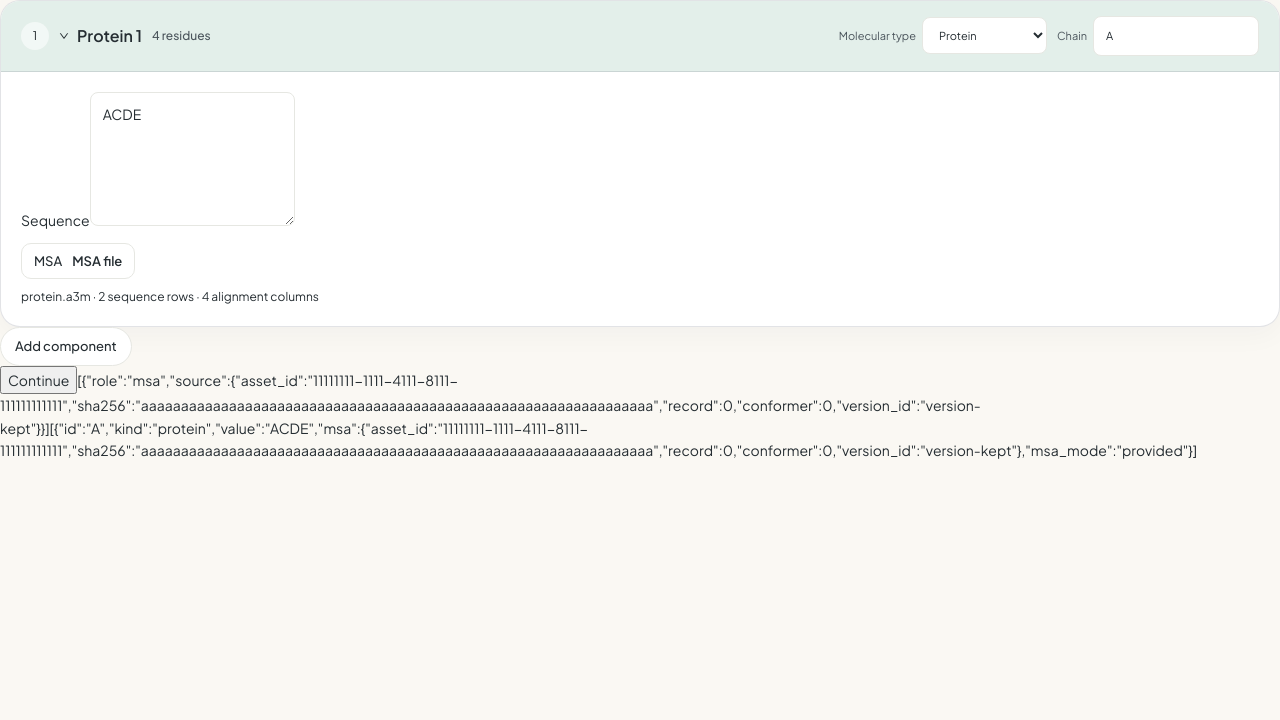
keeps a committed alignment on cancel and atomically clears it on explicit single-sequence save
This screenshot has width=1280, height=720.
Expected: the button "Continue" is enabled, [0, 366, 77, 394]
Click the button with aria-label "Chain A MSA settings": coordinates (78, 261) [21, 243, 135, 279]
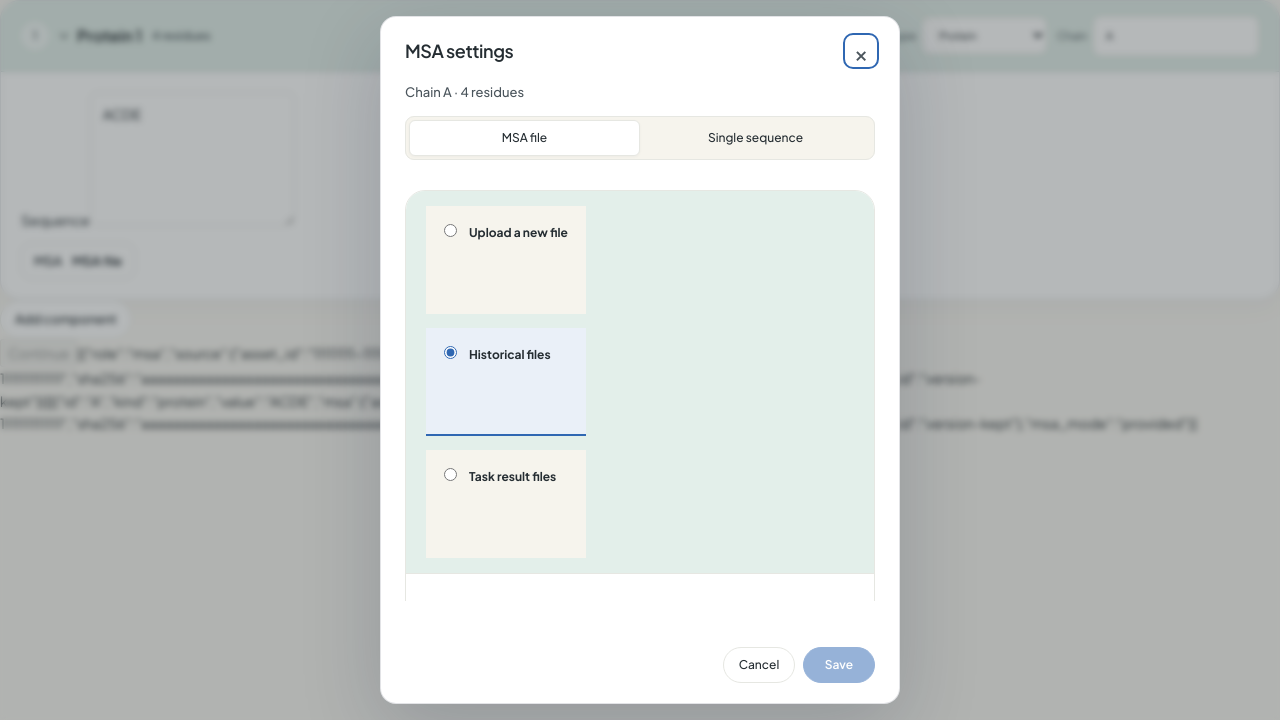
Click the radio button labelled "Single sequence": coordinates (756, 138) [708, 130, 803, 145]
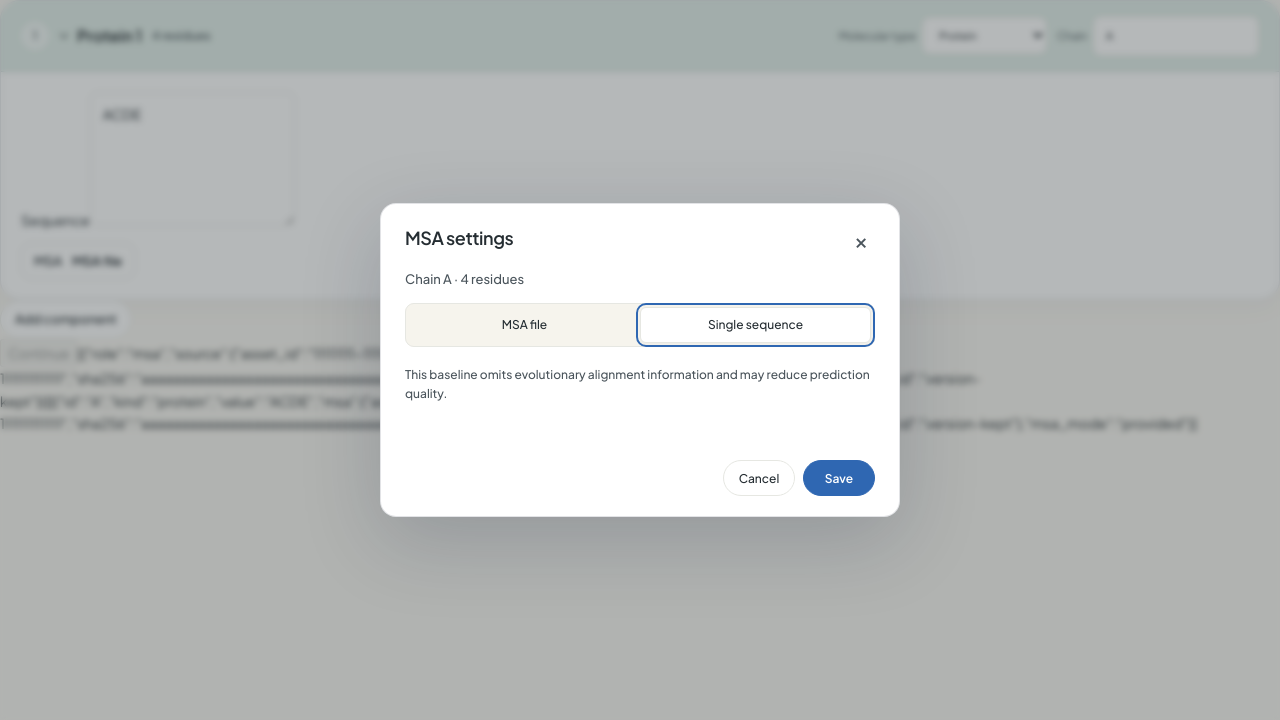
Click the button "Cancel": coordinates (759, 478) [723, 460, 795, 496]
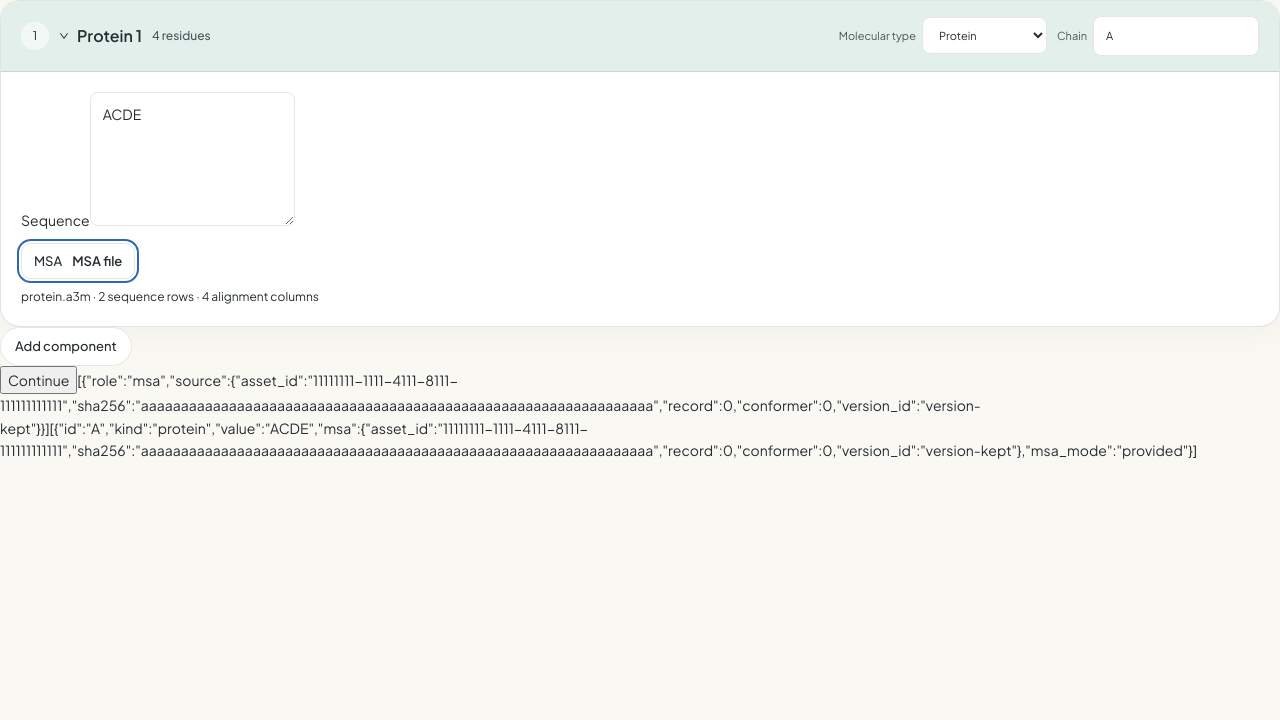
Expected: the text named "Bound inputs" shows "version-kept", [0, 371, 981, 437]
Now the button "Continue" is enabled, box [0, 366, 77, 394]
Click the button with aria-label "Chain A MSA settings": coordinates (78, 261) [21, 243, 135, 279]
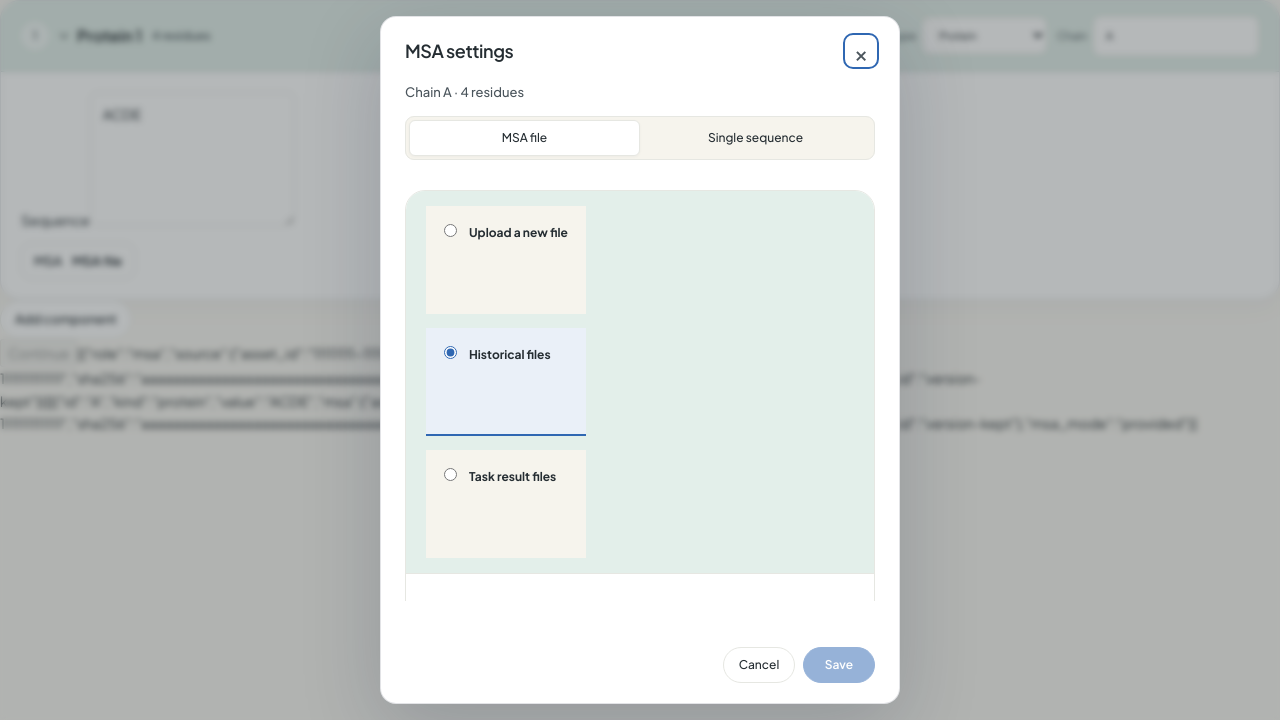
Click the radio button labelled "Single sequence": coordinates (756, 138) [708, 130, 803, 145]
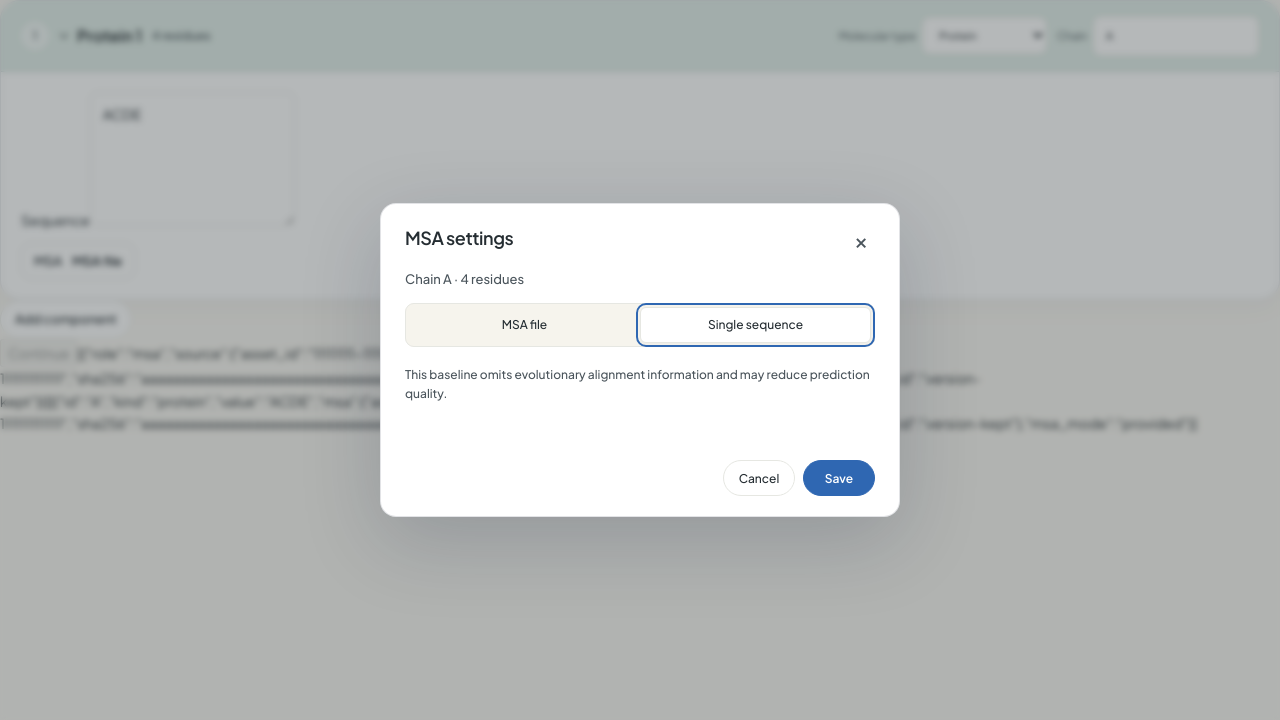
Click the button "Save": coordinates (839, 478) [803, 460, 875, 496]
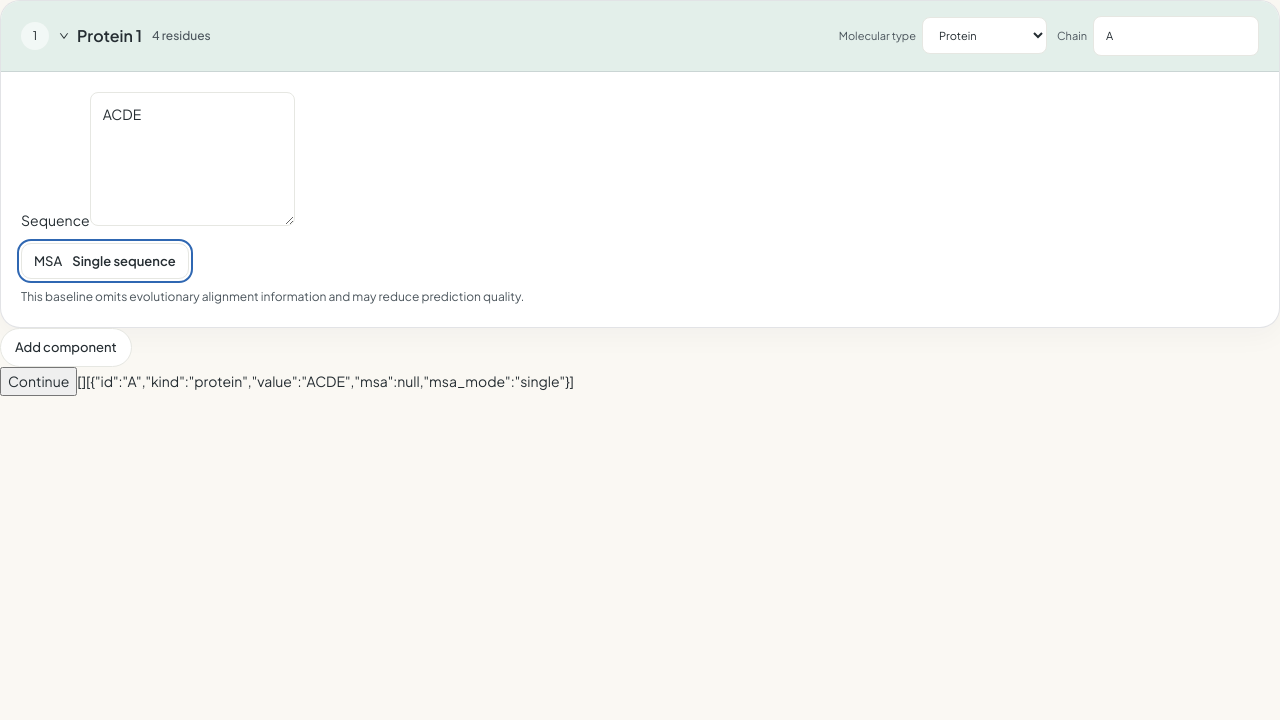
Now the text named "Bound inputs" reads "[]", box [77, 372, 86, 390]
Now the button "Continue" is enabled, box [0, 367, 77, 396]
